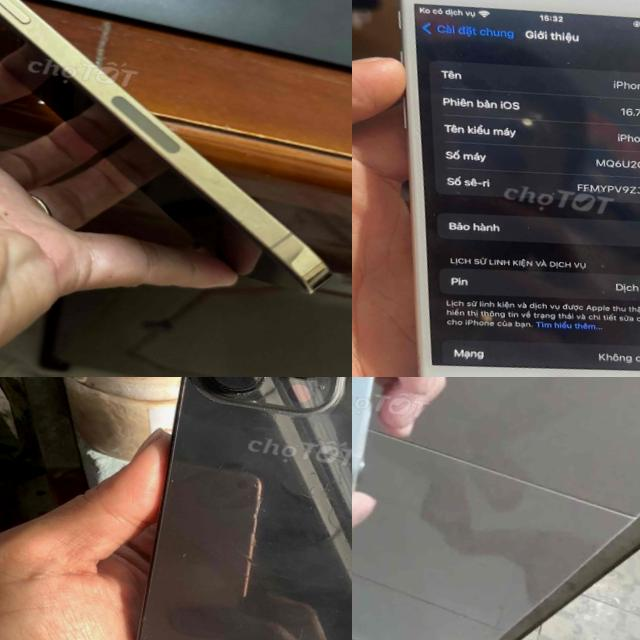gen_12_13: (0, 0, 352, 305), (352, 377, 441, 516)
gen_14: (92, 377, 352, 640)
gen_7_8: (352, 0, 640, 377)
scratch: (189, 377, 352, 434)
